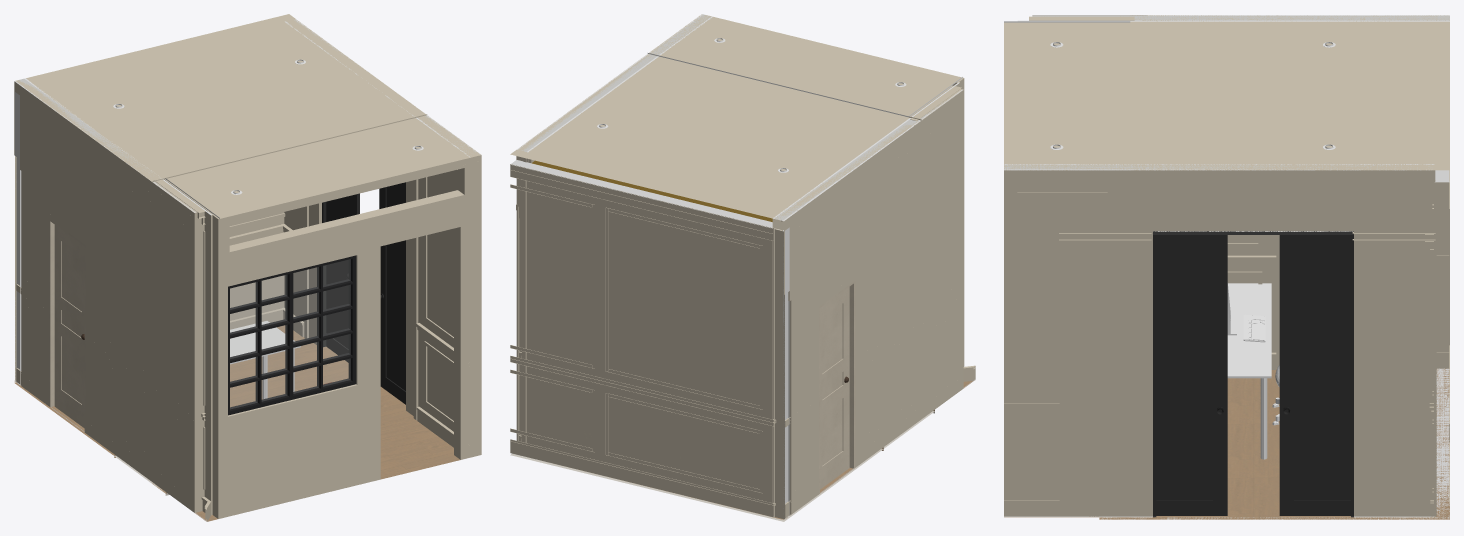
File: office-west-5a96aa458e34.glb
The picture shows the model from 3 angles, left to right: view 1: azimuth 30°, elevation 25°; view 2: azimuth 150°, elevation 25°; view 3: azimuth 270°, elevation 25°; orthographic projection. The views are drawn at different scales.
Visible parts, largest first — view 1: office-west-6a051330000fbca1, office-west-a822d30aa9e2c55a, office-west-2575515a05775d9e, office-west-72f8f5982ac3dc36, office-west-dbd60ee5c3733ed6, office-west-7b82ff44d03bcf83, office-west-7e39e4af19a71cea, office-west-80d276f58a4dc5cb, office-west-3b0077416469e01b, office-west-c374268555806af8, office-west-19647d6da46c2b80, office-west-58bb9195228d55f2 (+15 smaller); view 2: office-west-19647d6da46c2b80, office-west-6a051330000fbca1, office-west-2575515a05775d9e, office-west-dbd60ee5c3733ed6, office-west-80d276f58a4dc5cb, office-west-72f8f5982ac3dc36, office-west-99102bcd8e097289, office-west-7b51444cc162b982, office-west-e4f956709b3b9173, office-west-2e2046aa9b9e18eb, office-west-a822d30aa9e2c55a, office-west-34a4cbeb0794e1e4 (+11 smaller); view 3: office-west-72f8f5982ac3dc36, office-west-2575515a05775d9e, office-west-7e39e4af19a71cea, office-west-dbd60ee5c3733ed6, office-west-3b0077416469e01b, office-west-0811b6b476584948, office-west-6a051330000fbca1, office-west-534798eead7988b6, office-west-19647d6da46c2b80, office-west-4c8709d6bad8860e, office-west-a822d30aa9e2c55a, office-west-fd8387c77bd438eb (+4 smaller).
Part boxes in pixels (box(x1,y1,x2,y2)): office-west-6a051330000fbca1: box(14, 78, 212, 514); office-west-a822d30aa9e2c55a: box(212, 153, 470, 518); office-west-2575515a05775d9e: box(15, 14, 427, 181); office-west-72f8f5982ac3dc36: box(284, 19, 481, 457); office-west-dbd60ee5c3733ed6: box(165, 116, 480, 218); office-west-7b82ff44d03bcf83: box(230, 259, 350, 408); office-west-7e39e4af19a71cea: box(322, 182, 405, 404); office-west-80d276f58a4dc5cb: box(54, 225, 84, 428); office-west-3b0077416469e01b: box(14, 325, 426, 493); office-west-c374268555806af8: box(114, 428, 459, 521); office-west-19647d6da46c2b80: box(229, 212, 284, 320); office-west-58bb9195228d55f2: box(304, 179, 418, 420); office-west-19647d6da46c2b80: box(511, 160, 773, 502); office-west-6a051330000fbca1: box(772, 82, 963, 518); office-west-2575515a05775d9e: box(510, 57, 921, 220); office-west-dbd60ee5c3733ed6: box(647, 14, 962, 117); office-west-80d276f58a4dc5cb: box(820, 287, 849, 489); office-west-72f8f5982ac3dc36: box(516, 14, 712, 442); office-west-99102bcd8e097289: box(510, 439, 773, 517); office-west-7b51444cc162b982: box(510, 164, 773, 240); office-west-e4f956709b3b9173: box(605, 207, 762, 409); office-west-2e2046aa9b9e18eb: box(510, 355, 773, 426); office-west-a822d30aa9e2c55a: box(707, 17, 964, 366); office-west-34a4cbeb0794e1e4: box(605, 393, 762, 493); office-west-72f8f5982ac3dc36: box(1004, 164, 1436, 517); office-west-2575515a05775d9e: box(1130, 15, 1449, 170); office-west-7e39e4af19a71cea: box(1153, 231, 1353, 517); office-west-dbd60ee5c3733ed6: box(1004, 21, 1130, 170); office-west-3b0077416469e01b: box(1099, 368, 1449, 519); office-west-0811b6b476584948: box(1004, 170, 1435, 184); office-west-6a051330000fbca1: box(1018, 15, 1449, 368); office-west-534798eead7988b6: box(1227, 283, 1279, 459); office-west-19647d6da46c2b80: box(1435, 170, 1449, 517); office-west-4c8709d6bad8860e: box(1017, 192, 1107, 394); office-west-a822d30aa9e2c55a: box(1004, 22, 1019, 163); office-west-fd8387c77bd438eb: box(1017, 419, 1107, 491).
Size of the model in its own units: 2.88 by 3.05 by 3.49.
24 materials, 5 textured.
